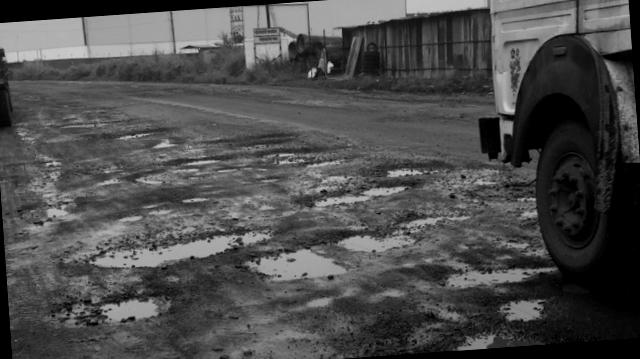Pothole: (82, 226, 273, 271), (247, 232, 344, 286), (316, 223, 431, 268), (66, 284, 189, 326), (268, 132, 353, 184), (446, 255, 564, 288), (311, 174, 413, 212), (121, 111, 196, 159), (489, 296, 562, 328), (376, 158, 434, 188), (453, 325, 509, 350)
